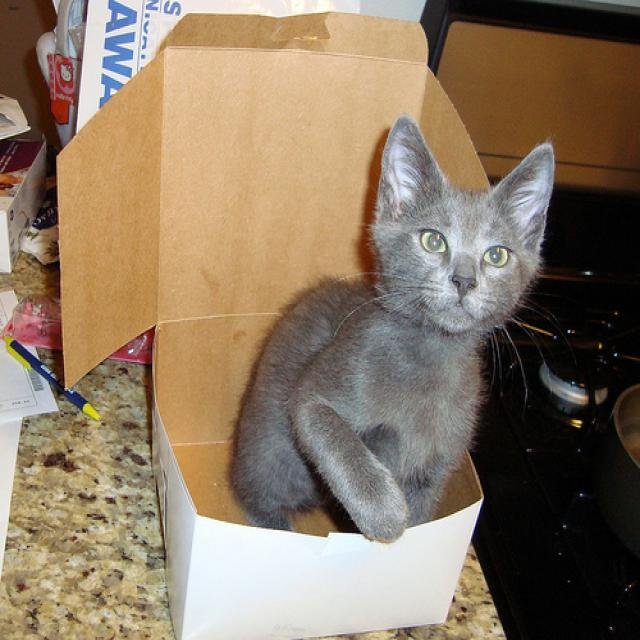cat: (379, 115, 553, 332)
